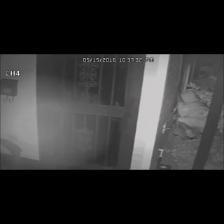person: (176, 91, 209, 138)
